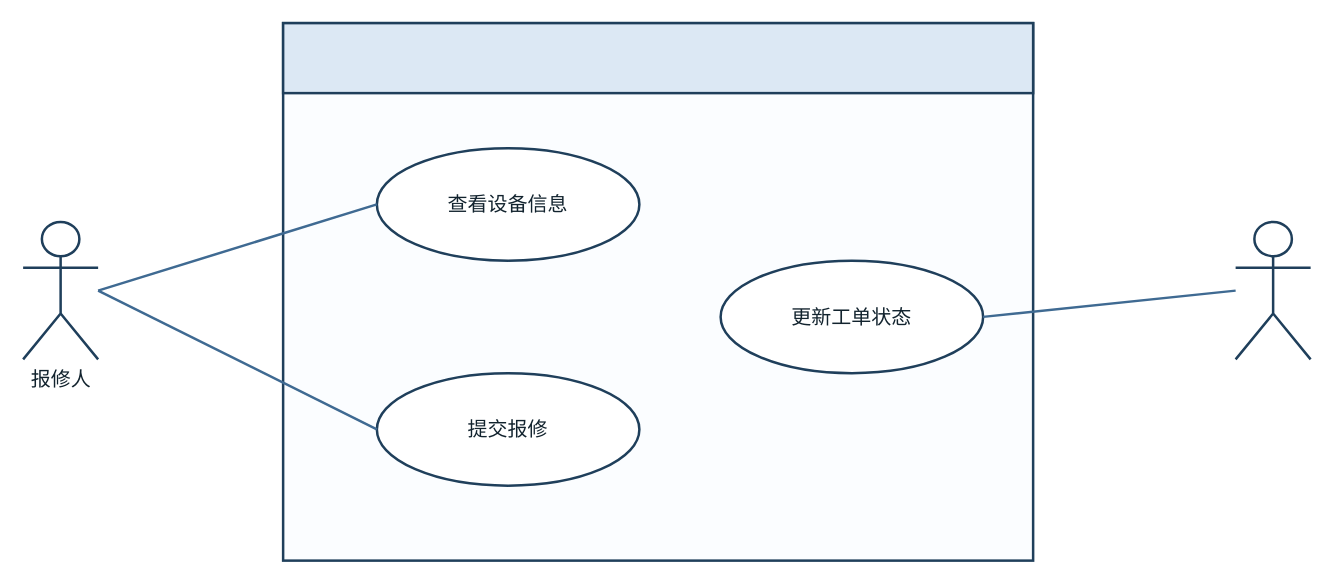
Some shapes in this 1334 by 583 pixel diagram are drawn without their labels. Each missing label, with the centre of its shape:
"校园物联网设备报修系统" belongs at (657,57).
"维护人员" belongs at (1272,290).
